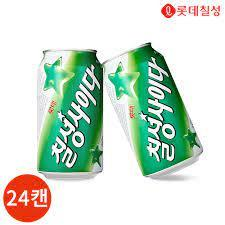chilsungcider: (33, 46, 106, 182)
